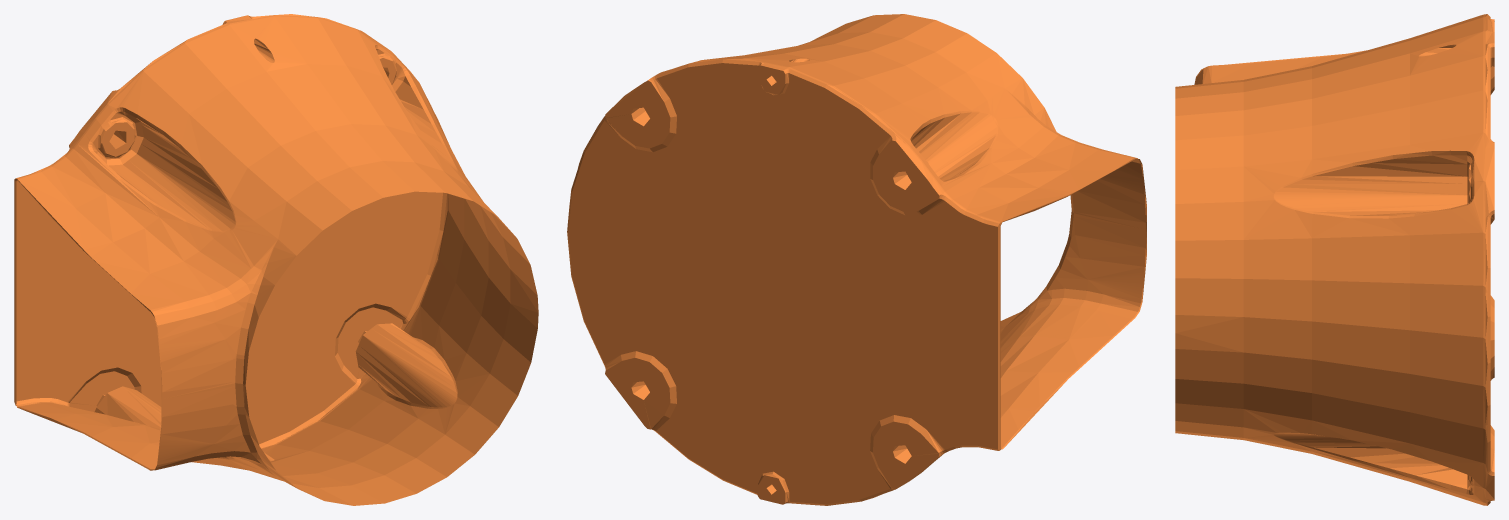
File: iiwa_link_vis_2.obj
3 renders of one model, left to right at view 1: azimuth 30°, elevation 25°; view 2: azimuth 150°, elevation 25°; view 3: azimuth 270°, elevation 25°, orthographic. The views are drawn at different scales.
Parts seen in each view (by area): view 1: node; view 2: node; view 3: node.
Part boxes in pixels (x1,y1,x2,y2): node: (14,14,538,505); node: (567,14,1146,505); node: (1175,14,1494,505).
Size of the model in its own units: 0.2529 by 0.2425 by 0.1575.
